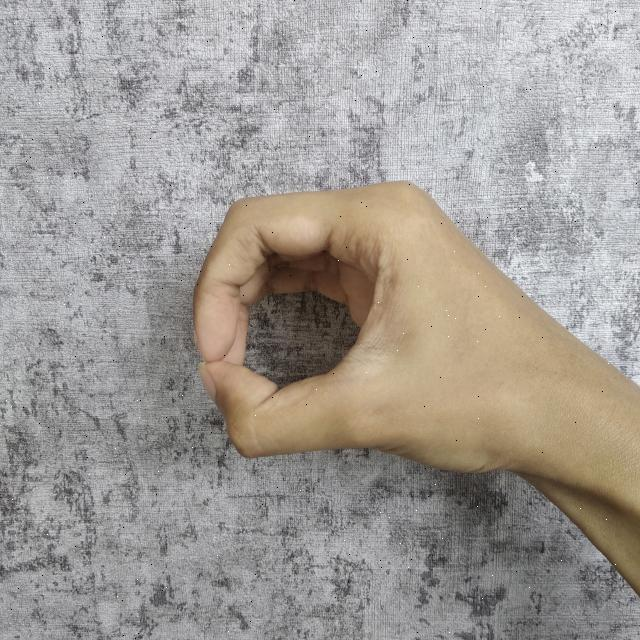O: (189, 173, 640, 606)
